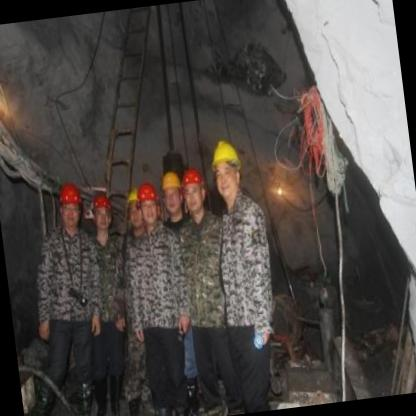bee: (204, 134, 247, 206), (156, 162, 187, 219), (55, 180, 87, 232), (180, 166, 208, 216), (87, 188, 116, 236), (132, 178, 160, 226), (125, 187, 145, 233)
